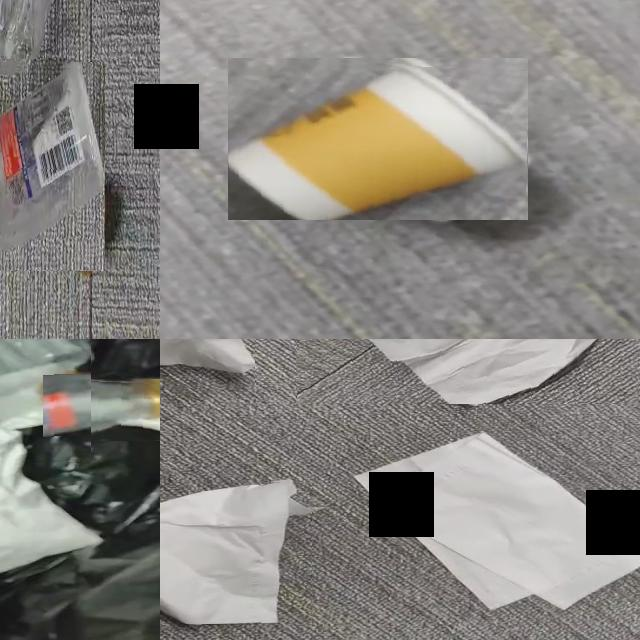bottle: (0, 67, 104, 250), (42, 379, 160, 441)
dixie_cup: (229, 65, 527, 220)
paper: (357, 433, 640, 609), (160, 481, 312, 624), (371, 339, 598, 404), (0, 432, 101, 573), (0, 368, 105, 434)
